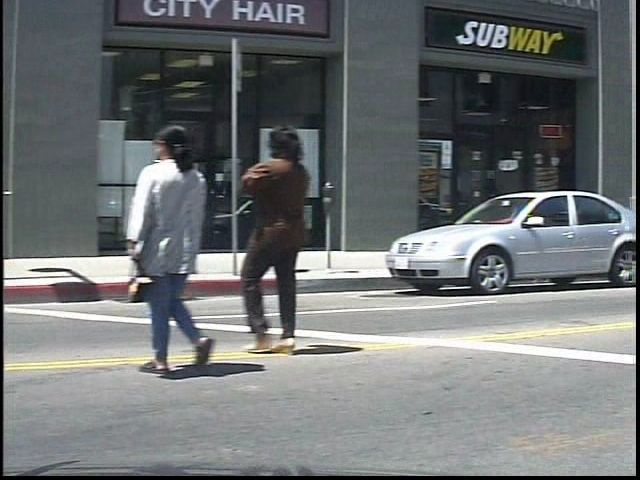person: (135, 122, 240, 377), (246, 119, 329, 357)
